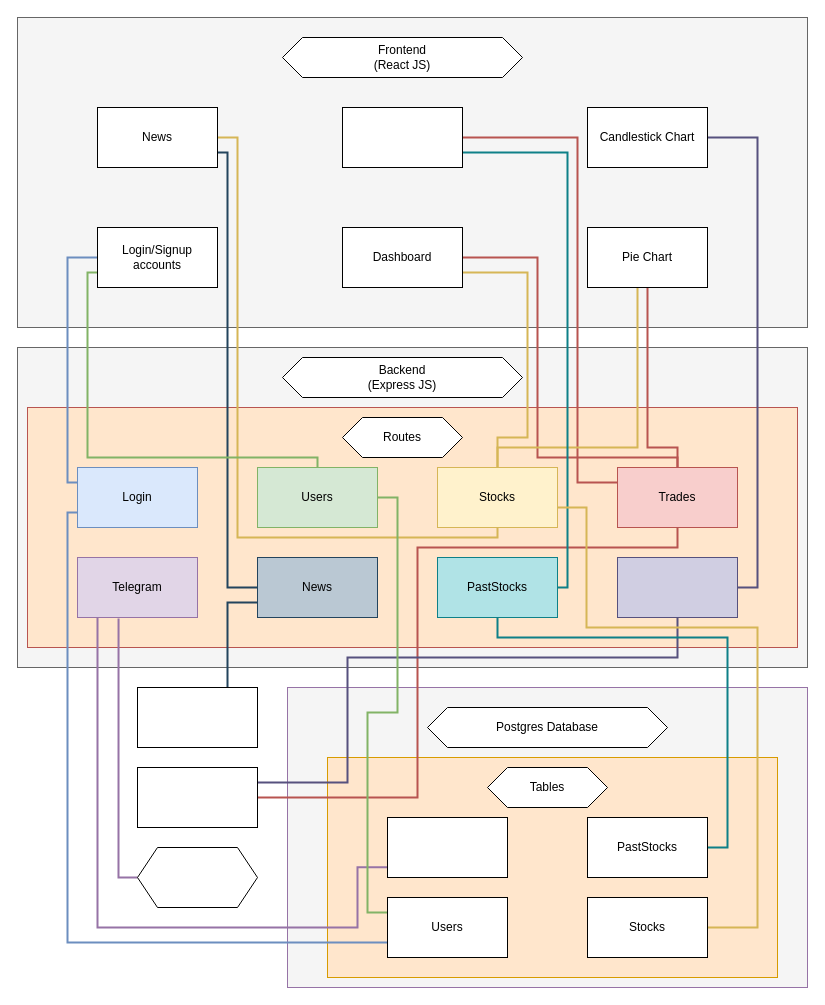
This 825x1005 diagram has some shape labels left out. Each missing label, with the centre of its shape:
"Alpaca API" goes at pixel 197 797.
"Bars" goes at pixel 677 587.
"Google News" goes at pixel 197 717.
"Line Chart" goes at pixel 402 137.
"Telegram Bot" goes at pixel 197 877.
"TeleUsers" goes at pixel 447 847.
